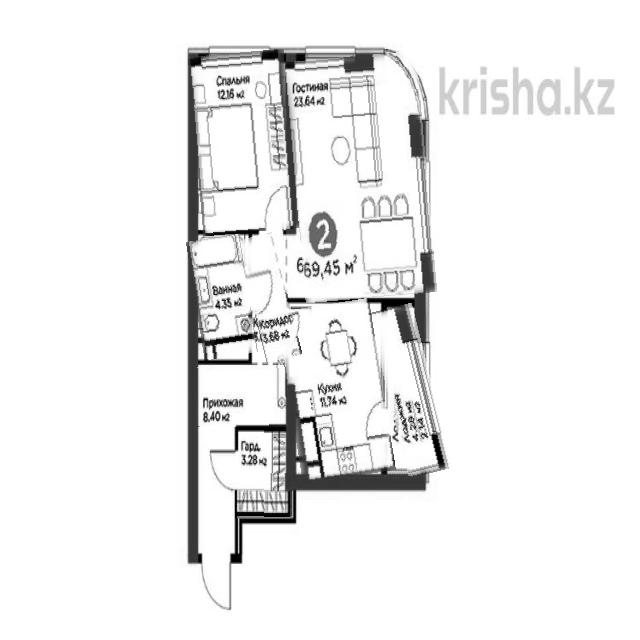balcony: (378, 305, 443, 477)
bathroom: (191, 235, 253, 359)
hallway: (244, 234, 295, 362), (195, 366, 286, 427)
kitchen: (282, 301, 390, 481)
living_room: (290, 53, 432, 301), (192, 51, 296, 235)
other: (236, 427, 292, 518)
